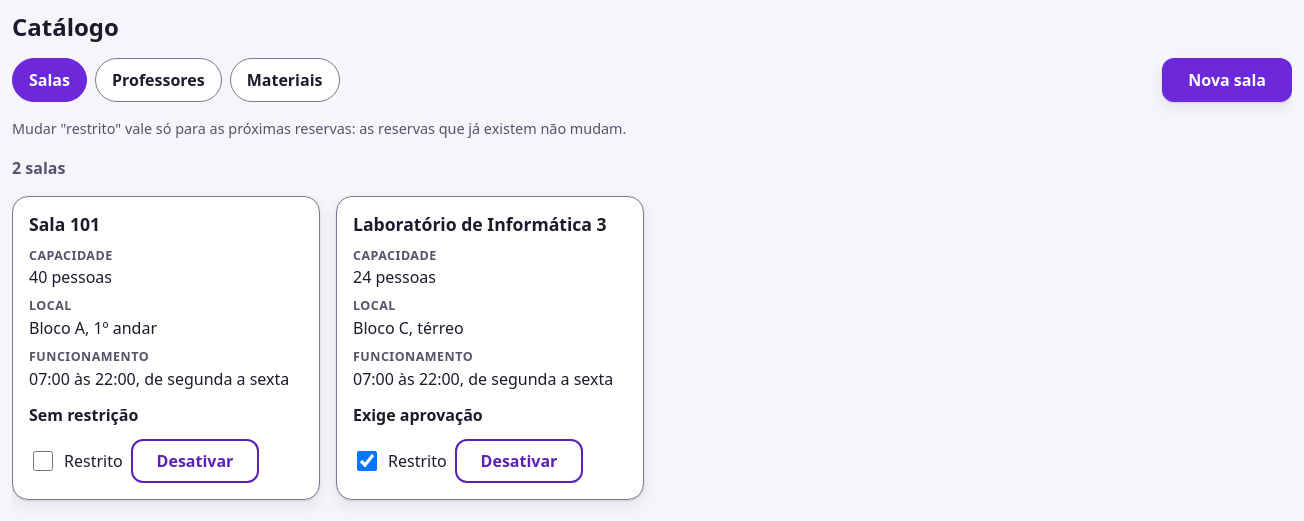
it: PaginaDoCatalogo: abas e lista › diz quantos recursos há na aba, no plural e no singular
Expected: the text "2 salas" is shown, top-left (12, 157), bottom-right (65, 179)
Click the tab "Professores".
click(158, 80)  # box top-left (95, 58), bottom-right (222, 102)
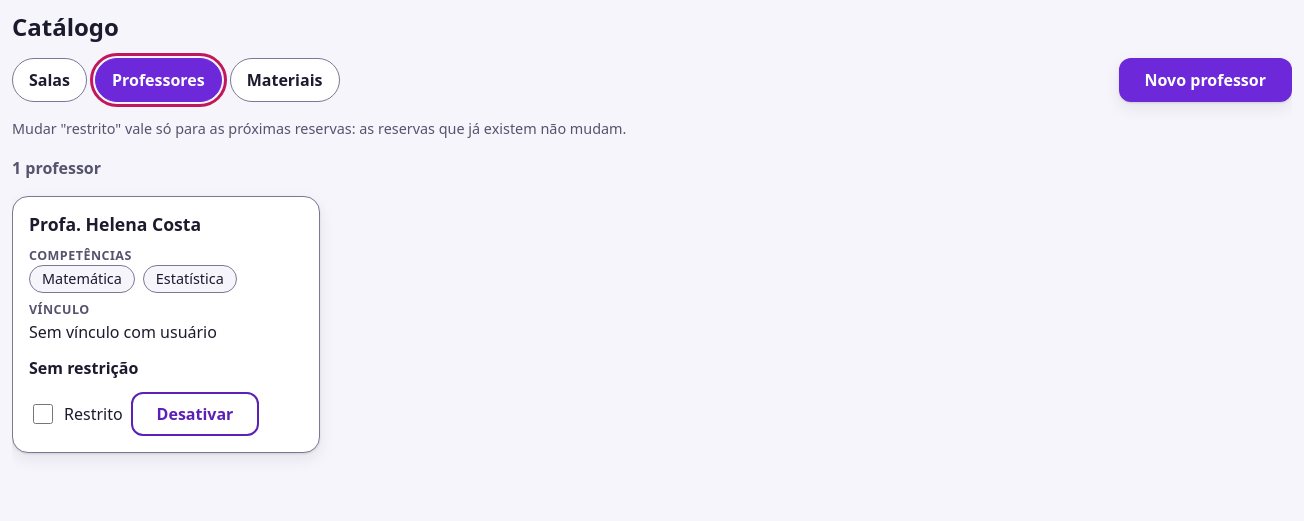
Now the text "1 professor" is shown, box top-left (12, 157), bottom-right (101, 179)
